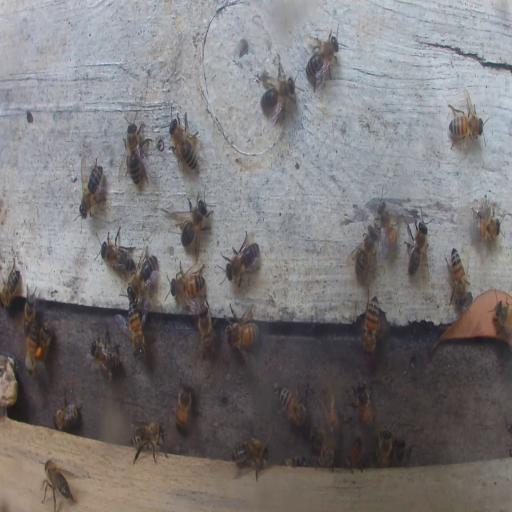bee: (258, 56, 296, 123), (174, 190, 214, 251), (304, 28, 341, 92), (222, 230, 261, 287), (168, 112, 200, 176), (121, 117, 149, 187), (89, 330, 122, 386), (78, 157, 106, 219), (232, 435, 269, 481), (404, 210, 429, 278), (42, 457, 74, 510), (130, 420, 168, 464), (99, 228, 133, 276), (349, 225, 379, 279), (129, 249, 156, 301), (276, 385, 308, 428), (169, 264, 205, 301), (361, 294, 382, 355), (447, 249, 469, 307), (472, 199, 501, 242), (376, 195, 398, 251), (318, 386, 340, 440), (447, 110, 486, 140), (25, 324, 45, 382), (128, 302, 147, 363), (196, 300, 215, 359), (224, 316, 259, 347), (52, 394, 82, 430), (353, 380, 373, 428), (174, 382, 192, 434), (0, 263, 20, 309), (490, 300, 511, 340), (374, 427, 394, 466), (23, 284, 37, 337), (314, 439, 336, 468), (345, 436, 363, 471), (394, 438, 412, 465), (40, 320, 53, 357), (311, 430, 329, 456), (284, 455, 308, 466)
